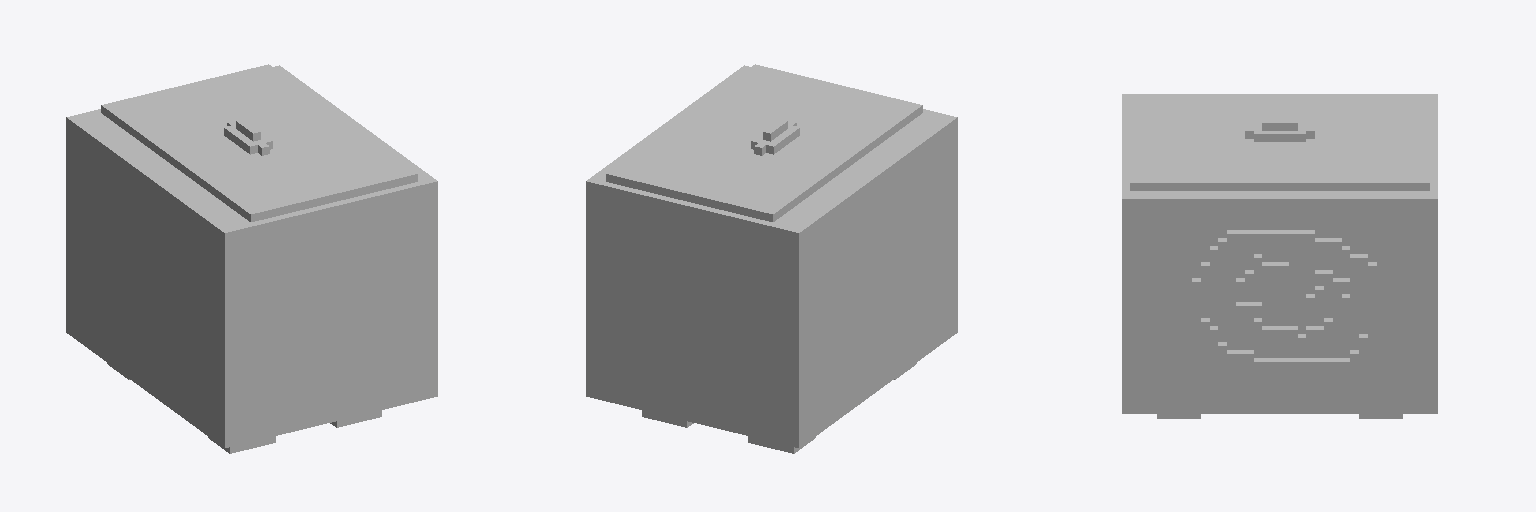
File: Bak.obj
3 renders of one model, left to right at view 1: azimuth 30°, elevation 25°; view 2: azimuth 150°, elevation 25°; view 3: azimuth 270°, elevation 25°, orthographic.
Visible parts, largest first — view 1: object 1; view 2: object 1; view 3: object 1.
Boxes of the visible parts, <box> form: object 1: <box>66,64,437,453</box>; object 1: <box>586,64,957,453</box>; object 1: <box>1122,94,1437,418</box>.
Size of the model in its own units: 2.9 by 3.3 by 3.6.